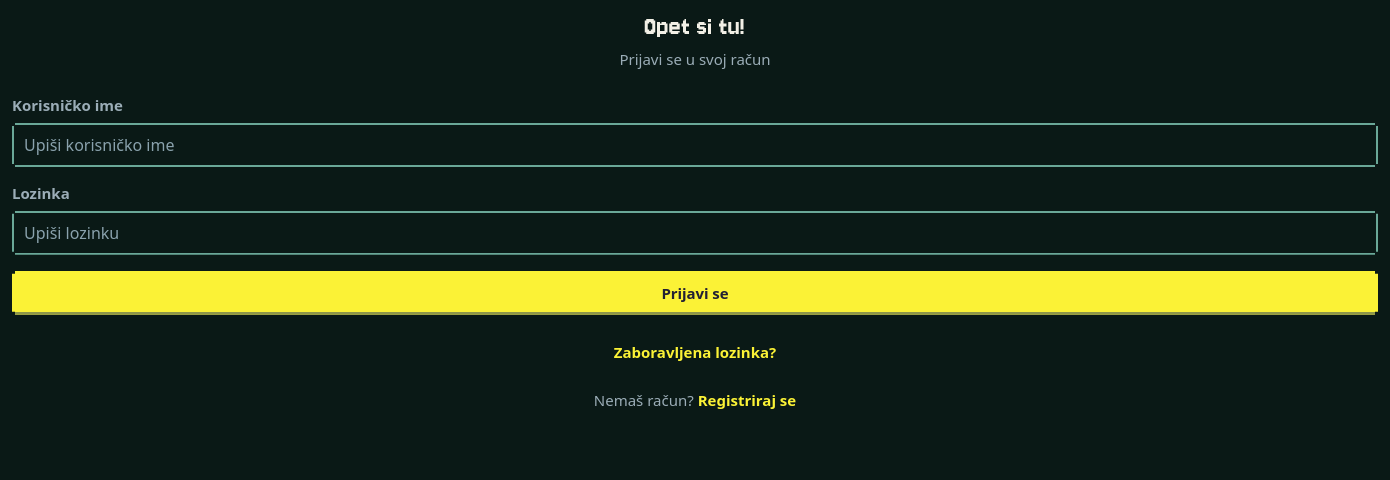
Test: LoginForm › wrong credentials read in Croatian on a Croatian site
Type "ana" into the field labelled "Korisničko ime" at point(695, 145), box [12,123,1378,167]
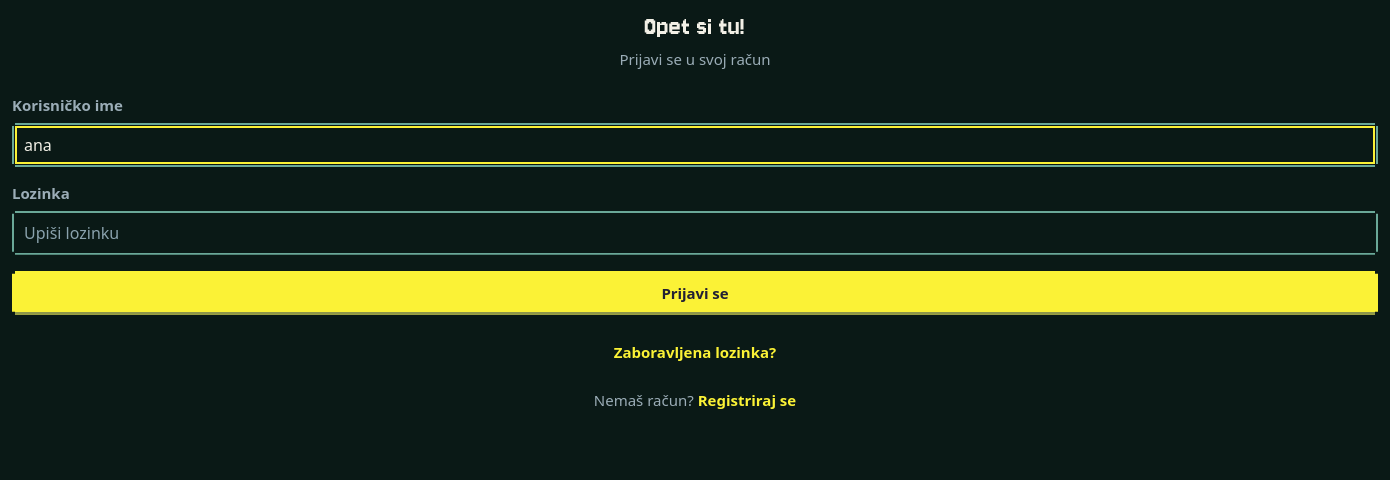
Type "long-enough-1" into the password field labelled "Lozinka" at point(695, 233), box [12,211,1378,255]
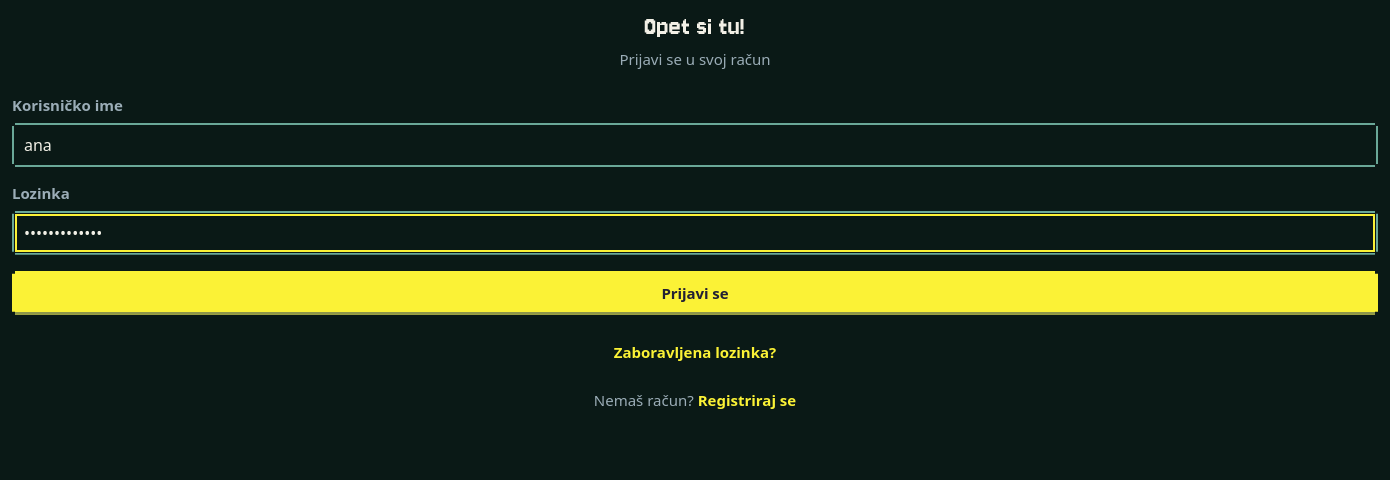
Click the button "Prijavi se" at point(695, 293), box [12,271,1378,315]
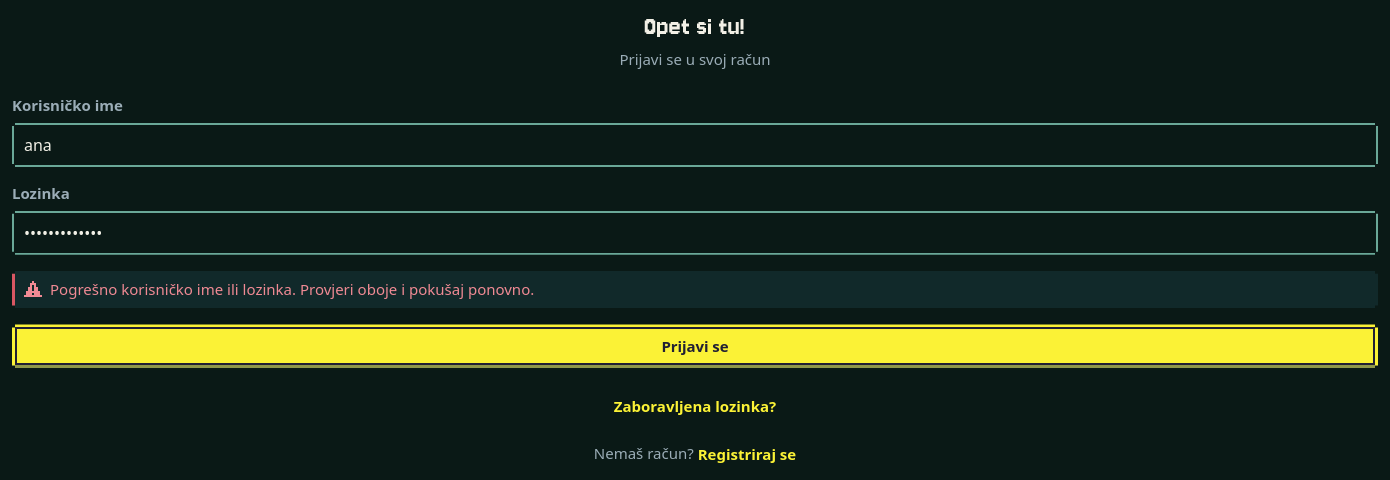
Check: the text "Pogrešno korisničko ime ili lozinka. Provjeri oboje i pokušaj ponovno." is shown, box [50,279,534,300]
